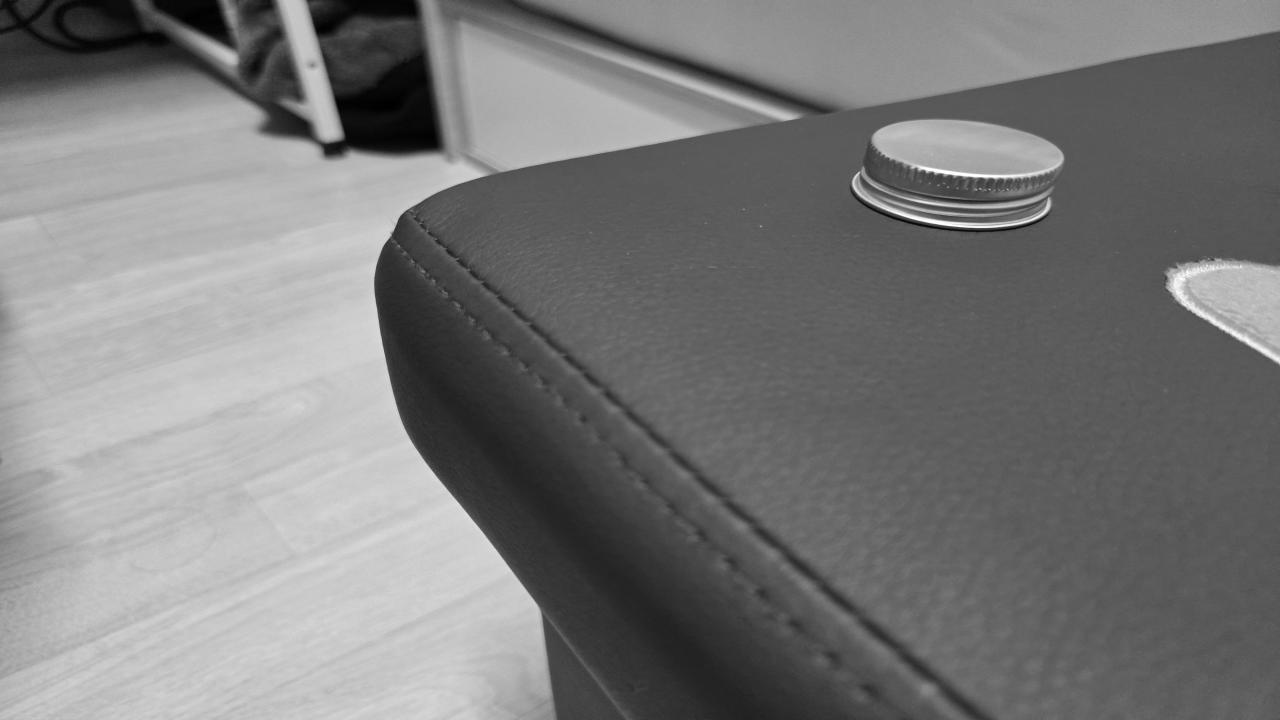bottle_cap: (861, 121, 1061, 226)
